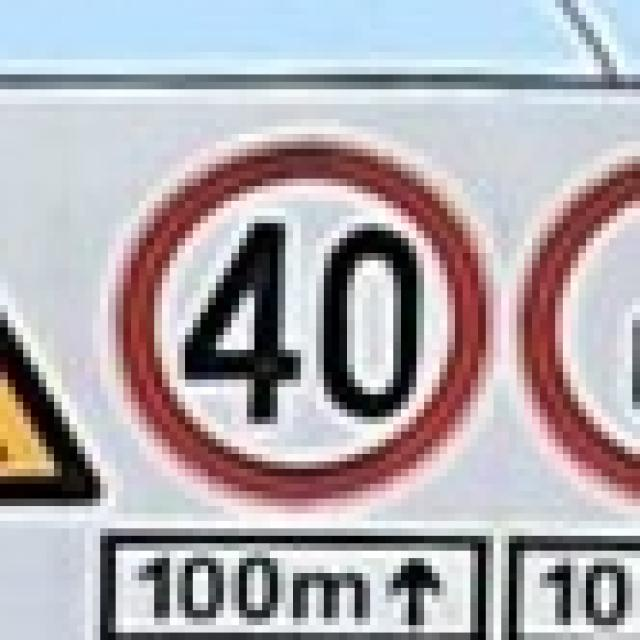Speed Limit -40-: (175, 217, 425, 426)
